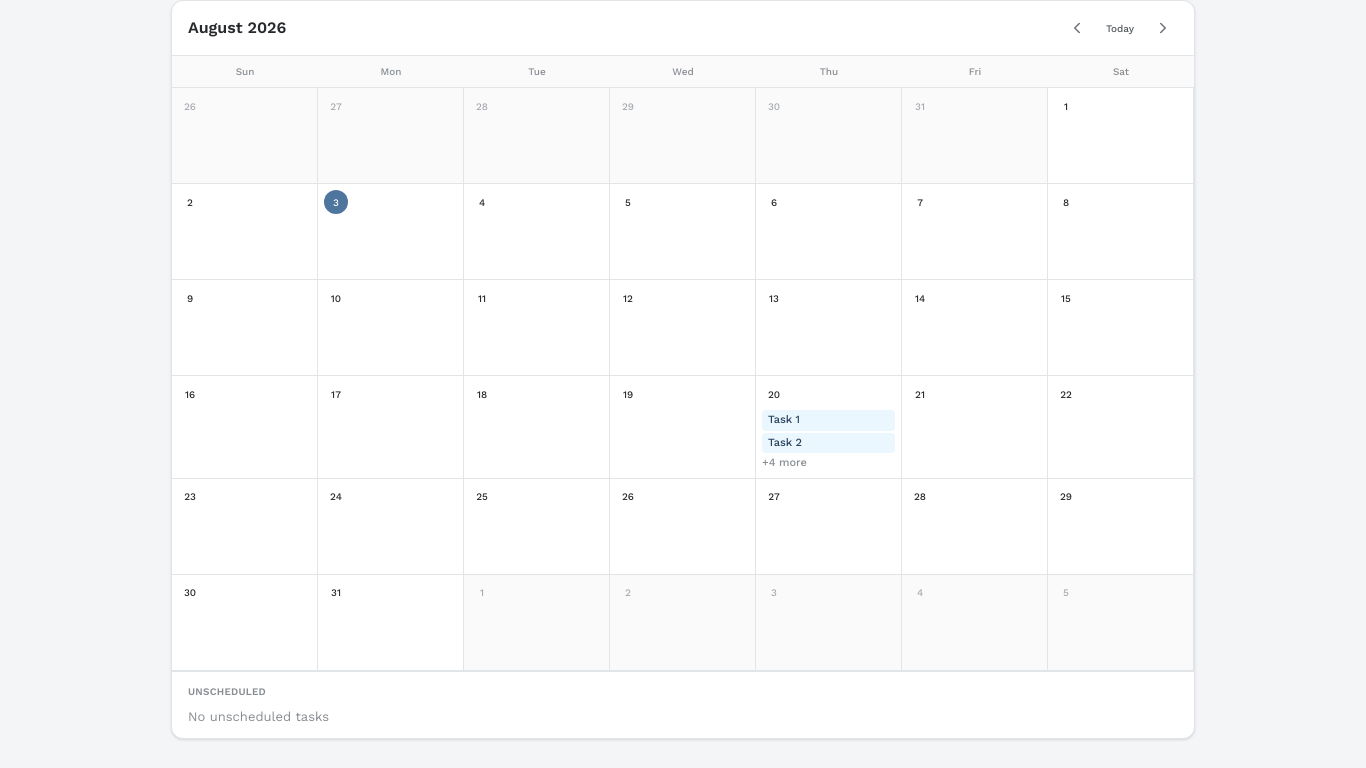
it: CalendarView display › opens modal listing all 6 cards when six share a date
What coordinates should you click on to do the following:
click the button with test id "date-cell-2026-08-20"
I would click on:
 (829, 427)
Its box is [756,376,902,478].
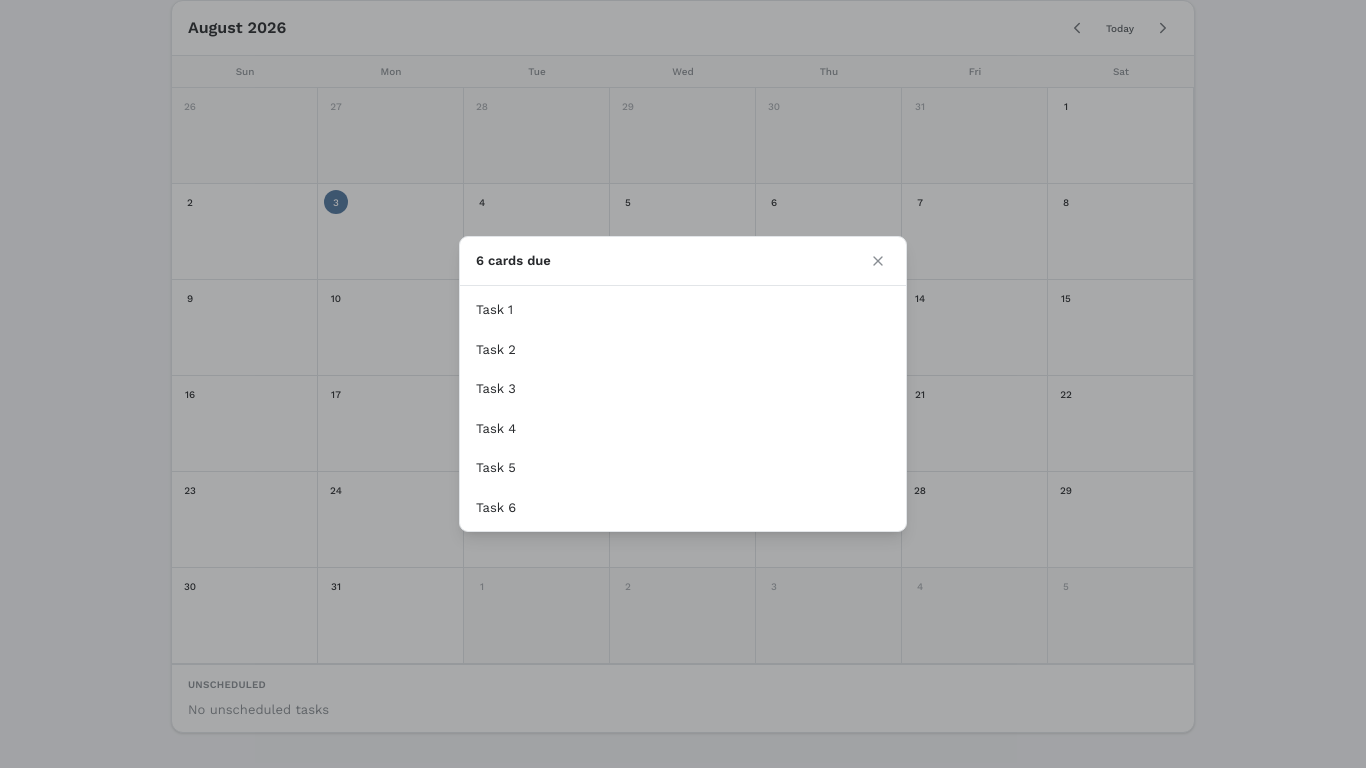
Check: the dialog is shown, box [459,236,907,532]
